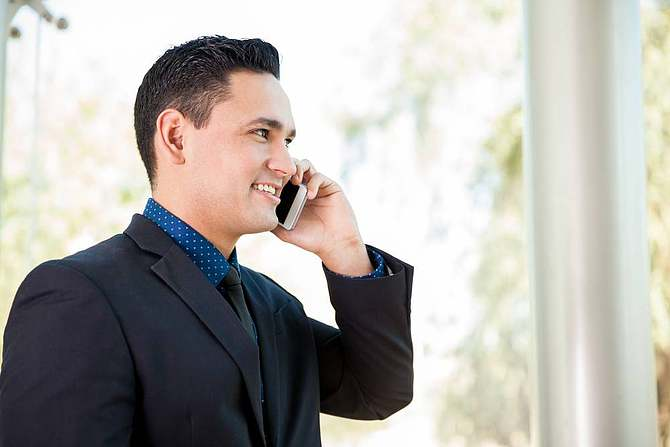calling: (267, 153, 364, 252)
